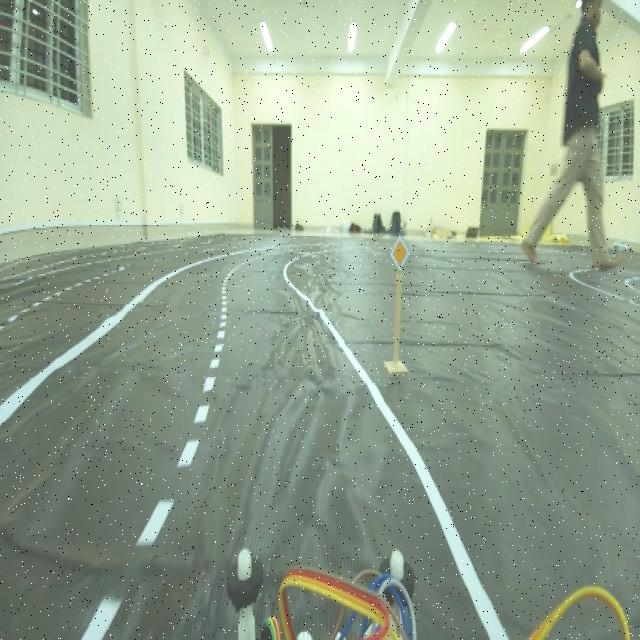priority: (382, 221, 412, 281)
